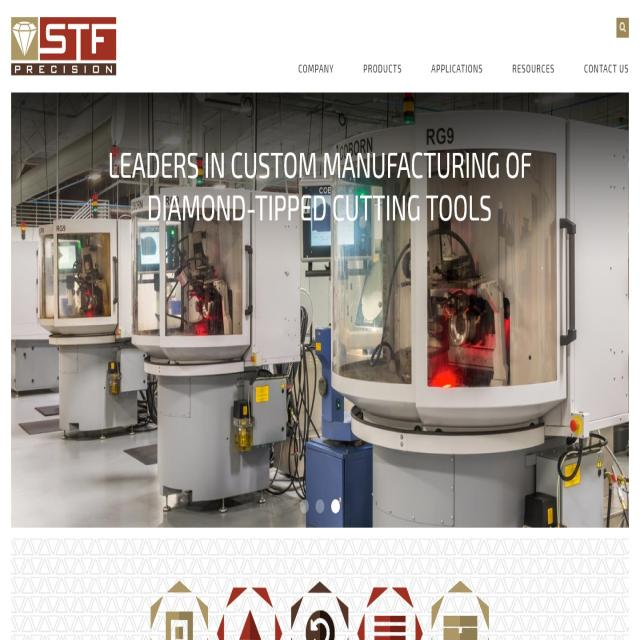button: (353, 574, 426, 640), (212, 578, 285, 640), (426, 573, 491, 640), (285, 576, 353, 640), (144, 579, 212, 640), (424, 50, 487, 90), (579, 50, 632, 90), (506, 52, 558, 91), (356, 51, 407, 90), (292, 52, 338, 90), (617, 17, 629, 38)
heading: (100, 144, 538, 224)
image: (12, 91, 628, 529), (12, 17, 117, 77)
